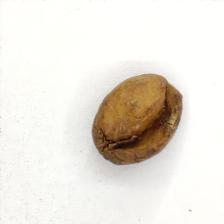NG: (112, 93, 179, 160)
